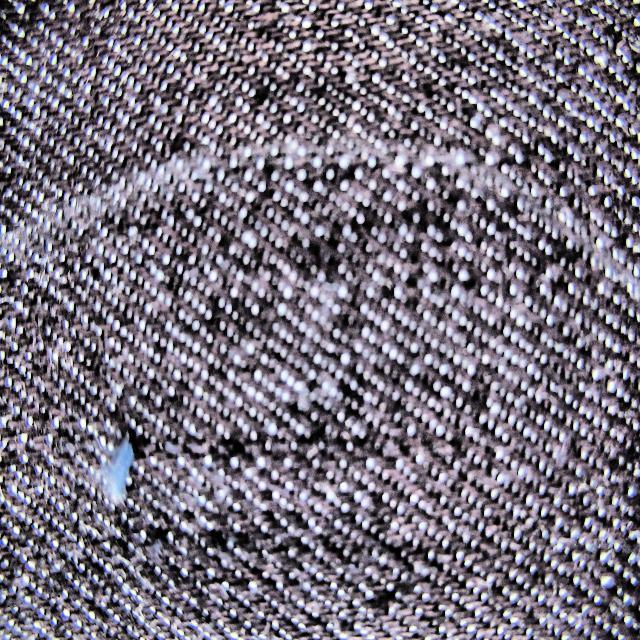cut: (106, 440, 132, 511)
